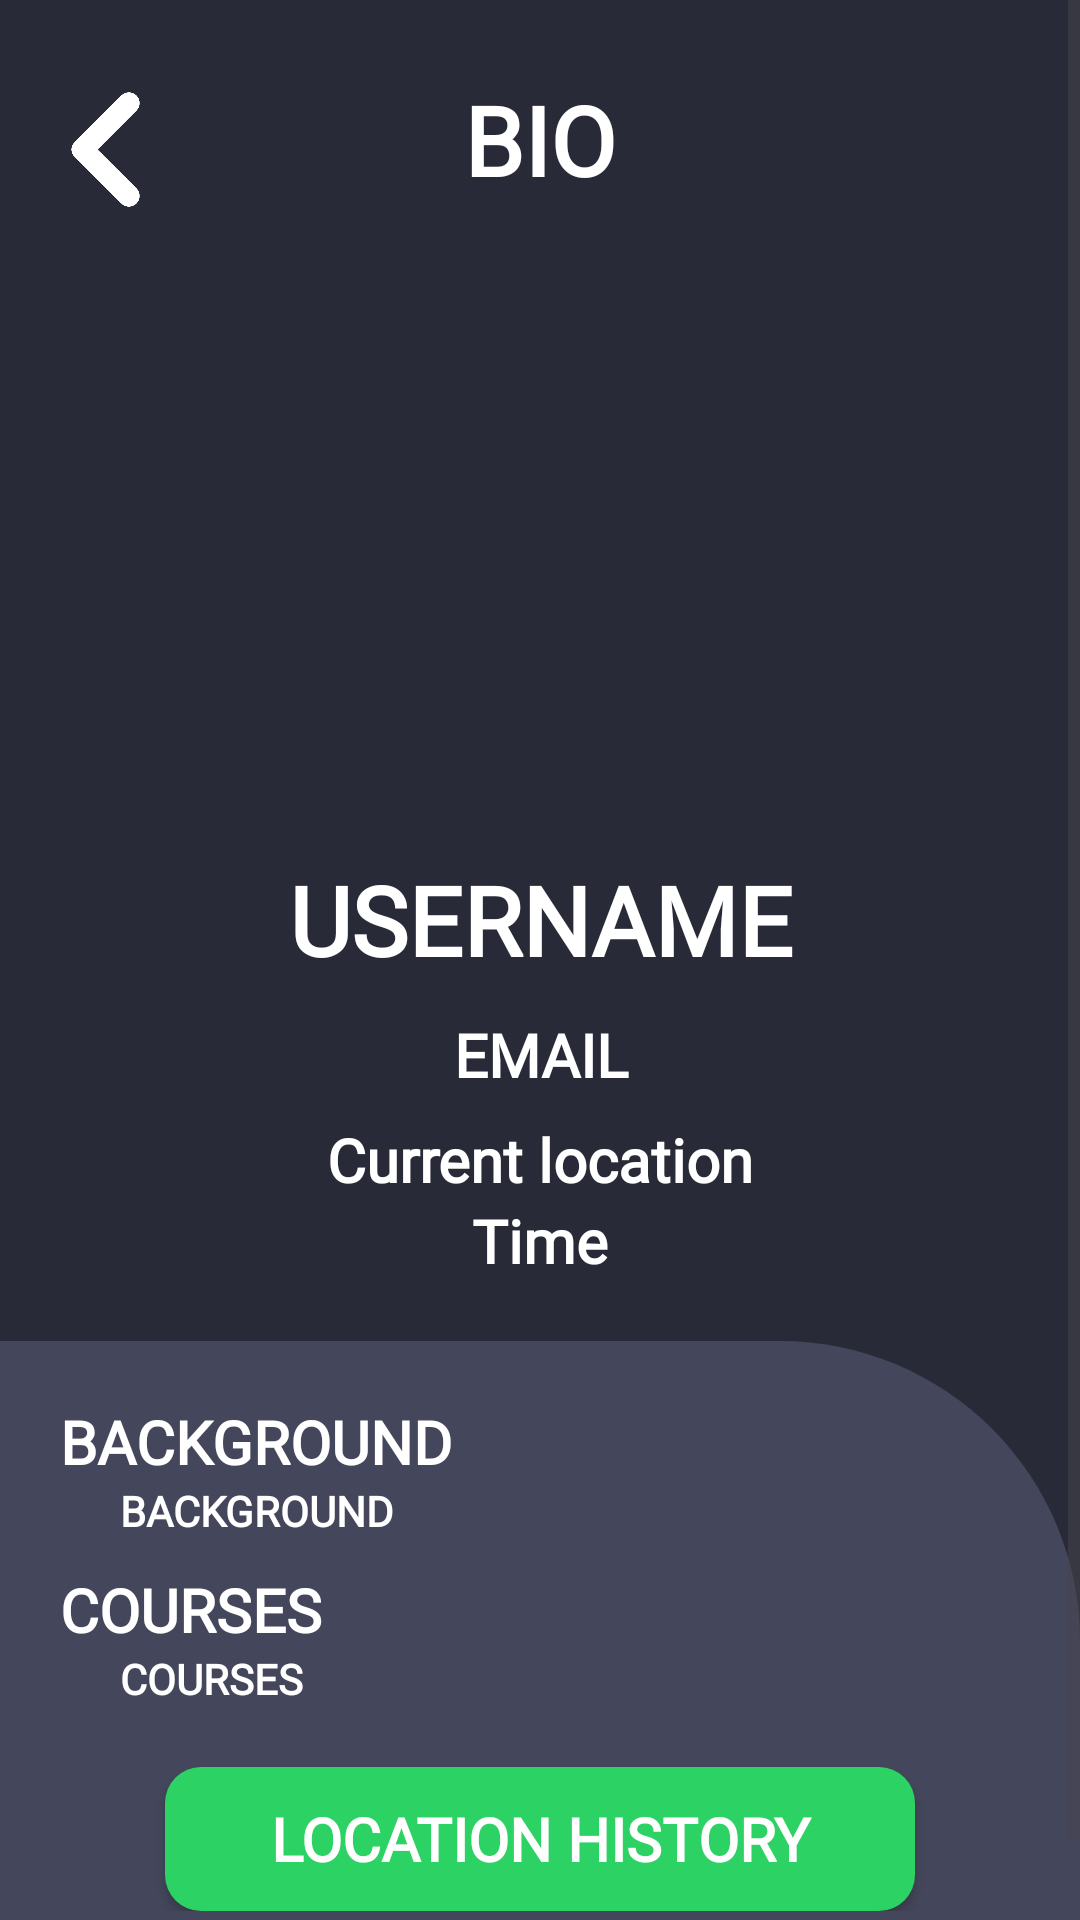

Where to tap for icons on this 1080px x 1920px app screen, as (x,y):
back button: (105,149)
